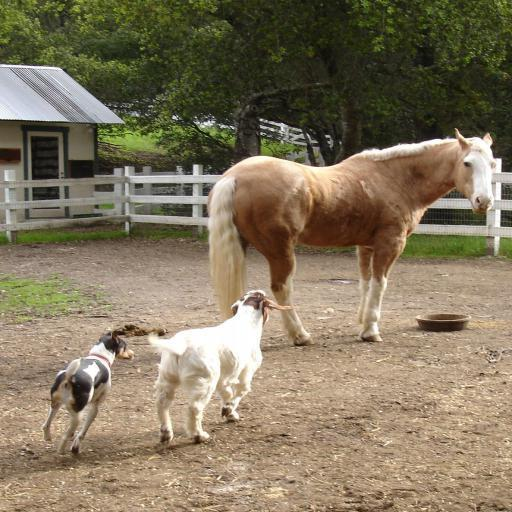horse: (206, 128, 500, 350)
